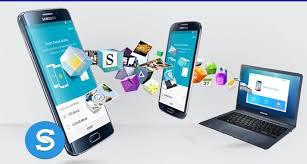Smartphone: (21, 7, 125, 150), (160, 17, 197, 113)
